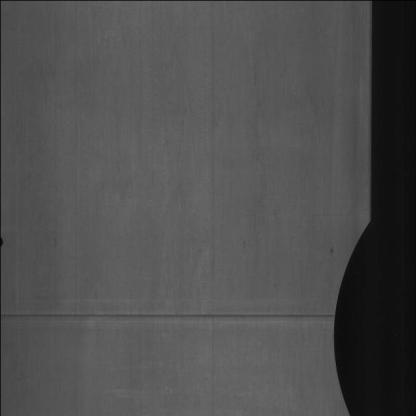welding_line: (0, 298, 347, 330)
